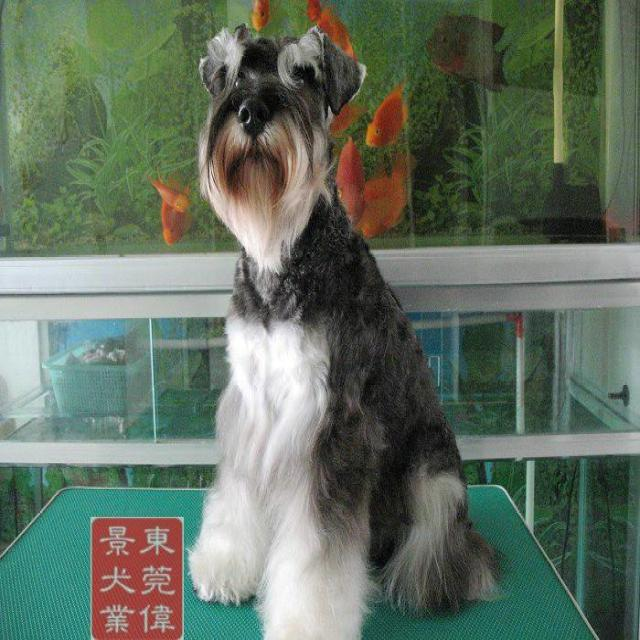standard_schnauzer: (189, 21, 501, 636)
